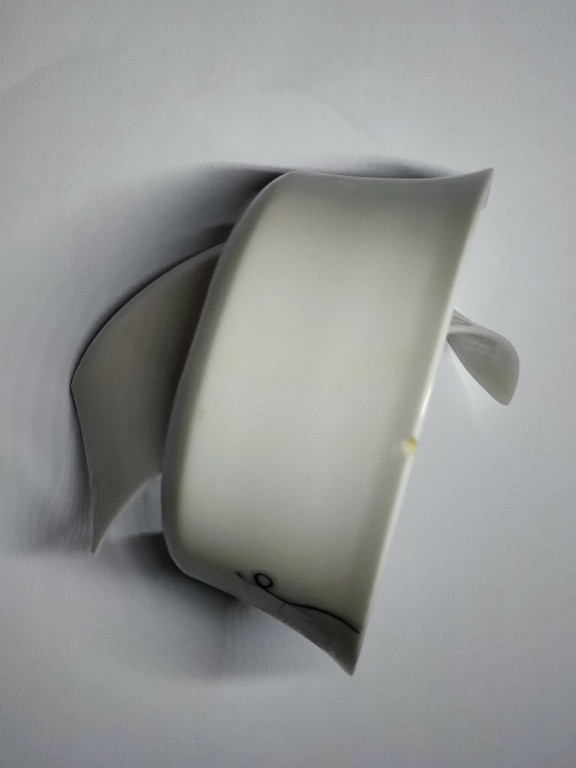ceramics: (63, 162, 524, 681)
